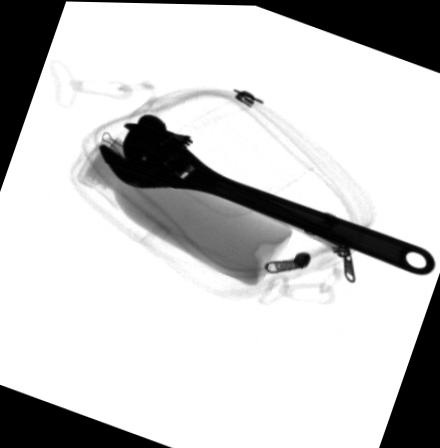Hammer: (121, 112, 405, 258)
Wrench: (101, 121, 437, 276)
